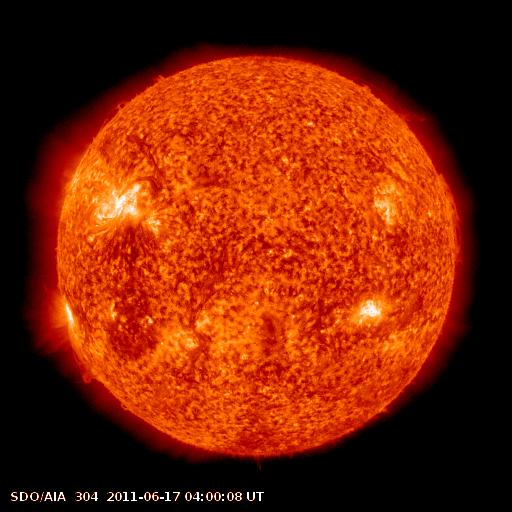prominence: (434, 166, 477, 269), (72, 366, 103, 389)
